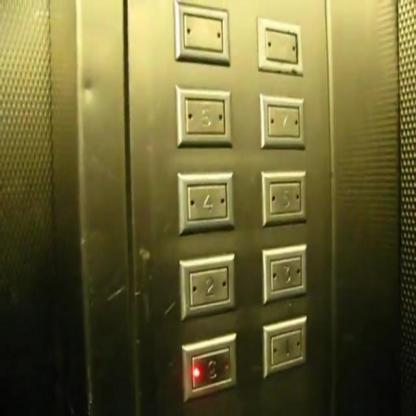1: (262, 315, 307, 377)
2: (177, 250, 236, 320)
3: (261, 243, 307, 303)
4: (176, 169, 236, 235)
5: (174, 83, 232, 147), (260, 171, 307, 227)
7: (258, 91, 306, 148)
blur: (180, 332, 238, 402)
empty: (174, 0, 230, 67), (256, 15, 304, 77)
